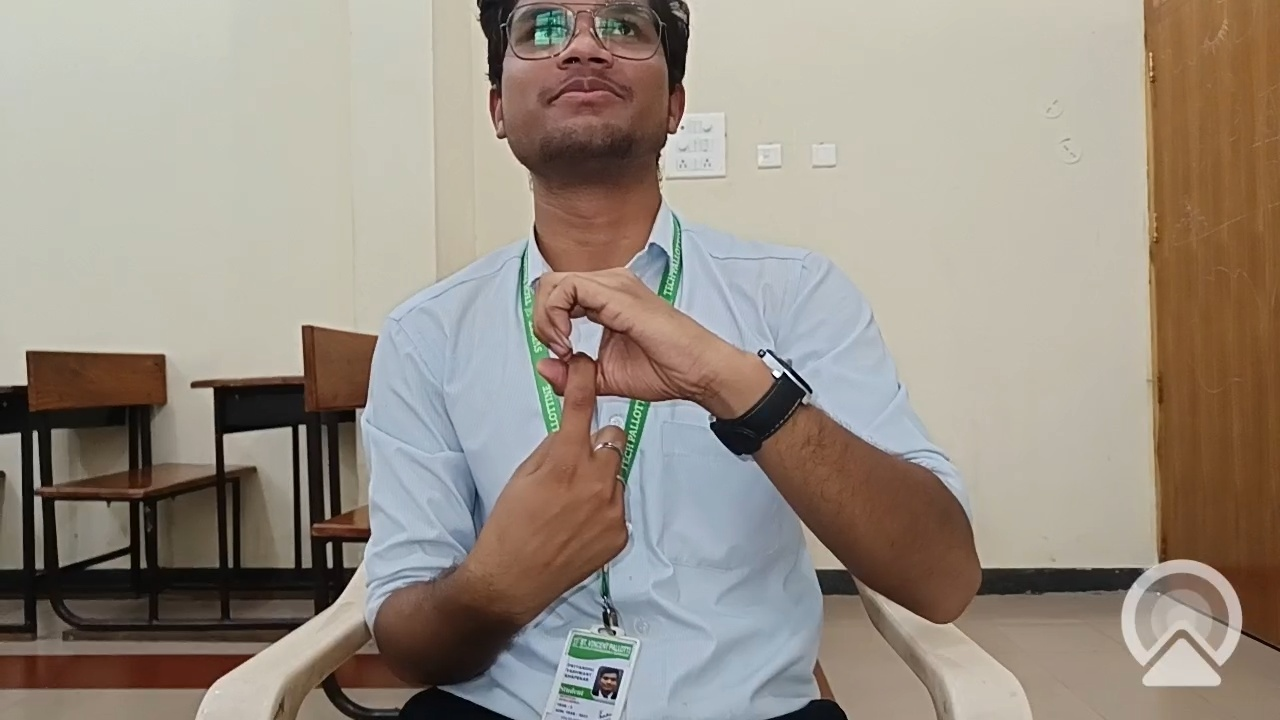Q: (473, 251, 813, 577)
